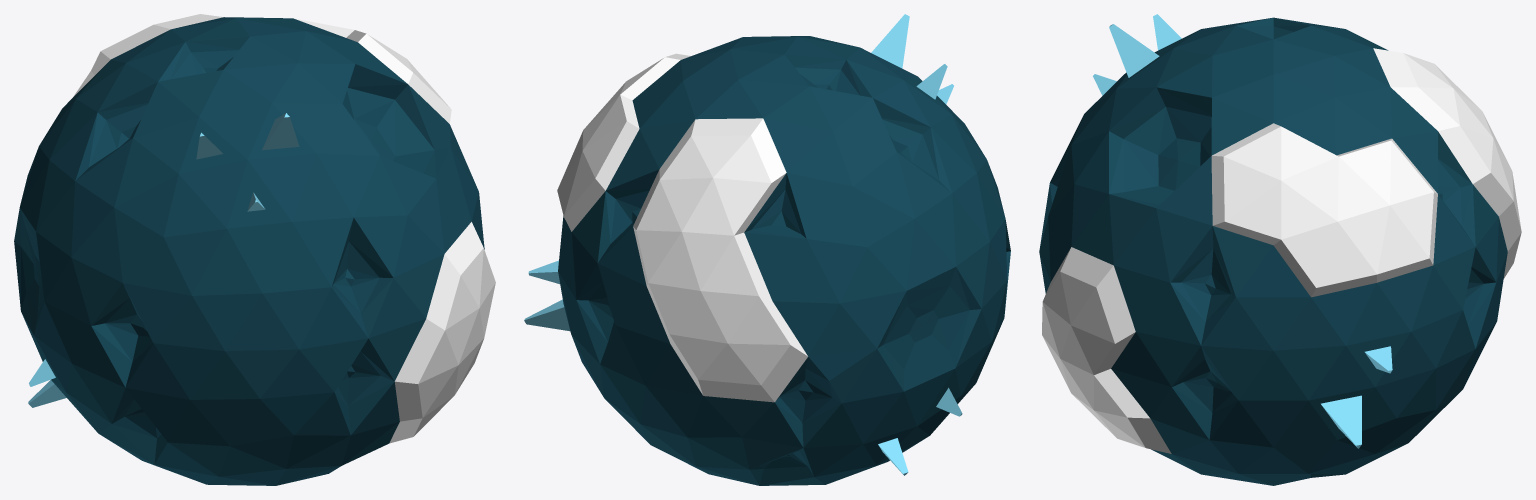
The model's file is Ice_Planet_Stage_01.FBX.
3 views of the same model, side by side, from view 1: azimuth 30°, elevation 25°; view 2: azimuth 150°, elevation 25°; view 3: azimuth 270°, elevation 25° (orthographic). The views are drawn at different scales.
Parts seen in each view (by area): view 1: Ice_Planet_Stage_1; view 2: Ice_Planet_Stage_1; view 3: Ice_Planet_Stage_1.
Part boxes in pixels (<box>): Ice_Planet_Stage_1: <box>14,14,495,485</box>; Ice_Planet_Stage_1: <box>524,14,1010,485</box>; Ice_Planet_Stage_1: <box>1039,14,1521,485</box>.
Bounding box in the file's own units: 84.42 × 80 × 82.37.
Materials: 3 (3 with a texture image).
